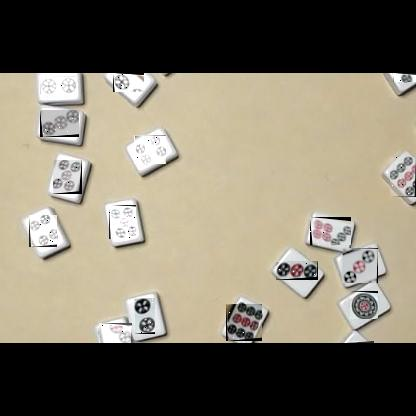1p: (350, 291, 378, 319), (346, 341, 374, 343)
2p: (134, 298, 155, 334), (40, 76, 76, 94), (113, 73, 144, 92)
3p: (342, 248, 378, 283), (40, 110, 79, 137), (276, 261, 318, 280), (99, 323, 132, 343)
4p: (134, 135, 166, 164), (29, 215, 57, 247)
5p: (53, 160, 82, 194), (109, 205, 136, 239), (393, 73, 416, 82)
7p: (310, 217, 351, 245)
9p: (226, 304, 262, 341), (390, 157, 416, 197)
